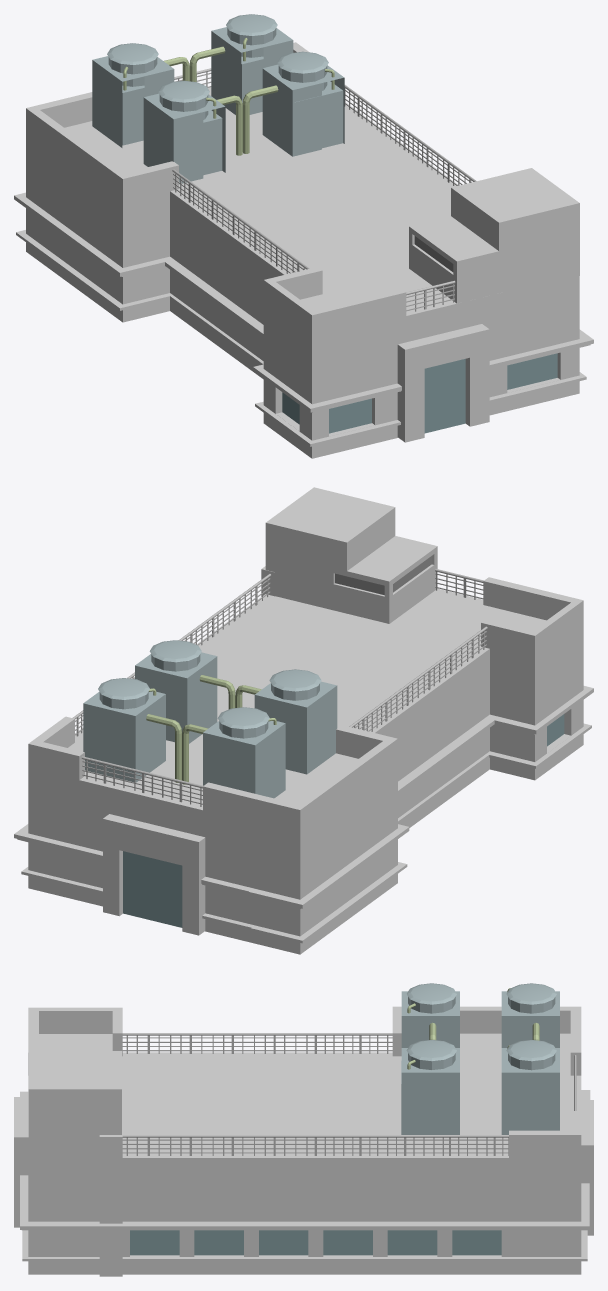
File: AC Room.fbx
3 views of the same model, one above another, from view 1: azimuth 30°, elevation 25°; view 2: azimuth 150°, elevation 25°; view 3: azimuth 270°, elevation 25° (orthographic). The views are drawn at different scales.
Parts seen in each view (by area): view 1: polySurface65, pCube4, polySurface69, polySurface52, polySurface23, polySurface19, polySurface28, polySurface55, polySurface32, polySurface20, polySurface70, pCylinder3 (+15 smaller); view 2: polySurface65, pCube4, polySurface56, polySurface52, polySurface32, polySurface28, polySurface23, polySurface19, polySurface57, polySurface55, pCylinder3, polySurface44 (+8 smaller); view 3: polySurface65, pCube4, polySurface52, pCylinder2, polySurface19, polySurface32, pCylinder3, polySurface28, polySurface23, polySurface69, polySurface56, polySurface61 (+13 smaller).
Part boxes in pixels (left/top/right/bottom): polySurface65: left=26, top=42, right=579, bottom=458; pCube4: left=409, top=168, right=579, bottom=303; polySurface69: left=397, top=324, right=489, bottom=442; polySurface52: left=165, top=256, right=593, bottom=446; polySurface23: left=143, top=93, right=225, bottom=184; polySurface19: left=262, top=64, right=344, bottom=156; polySurface28: left=92, top=56, right=174, bottom=147; polySurface55: left=14, top=192, right=172, bottom=310; polySurface32: left=211, top=27, right=293, bottom=114; polySurface20: left=294, top=81, right=343, bottom=154; polySurface70: left=424, top=359, right=465, bottom=433; pCylinder3: left=172, top=169, right=309, bottom=273; polySurface65: left=28, top=566, right=583, bottom=954; pCube4: left=265, top=487, right=437, bottom=623; polySurface56: left=103, top=814, right=205, bottom=935; polySurface52: left=14, top=686, right=593, bottom=929; polySurface32: left=83, top=691, right=165, bottom=782; polySurface28: left=203, top=721, right=285, bottom=798; polySurface23: left=254, top=681, right=337, bottom=774; polySurface19: left=135, top=652, right=217, bottom=743; polySurface57: left=123, top=851, right=182, bottom=927; polySurface55: left=248, top=824, right=409, bottom=943; pCylinder3: left=349, top=626, right=487, bottom=731; polySurface44: left=81, top=756, right=203, bottom=806; polySurface65: left=28, top=1006, right=581, bottom=1276; pCube4: left=28, top=1051, right=121, bottom=1160; polySurface52: left=20, top=1091, right=589, bottom=1261; pCylinder2: left=122, top=1135, right=508, bottom=1155; polySurface19: left=401, top=1048, right=459, bottom=1134; polySurface32: left=501, top=1048, right=559, bottom=1134; pCylinder3: left=122, top=1033, right=392, bottom=1053; polySurface28: left=501, top=991, right=559, bottom=1047; polySurface23: left=401, top=991, right=459, bottom=1047; polySurface69: left=14, top=1097, right=28, bottom=1227; polySurface56: left=581, top=1100, right=593, bottom=1235; polySurface61: left=387, top=1230, right=437, bottom=1255.
Size of the model in its own units: 85.32 by 56.6 by 153.
